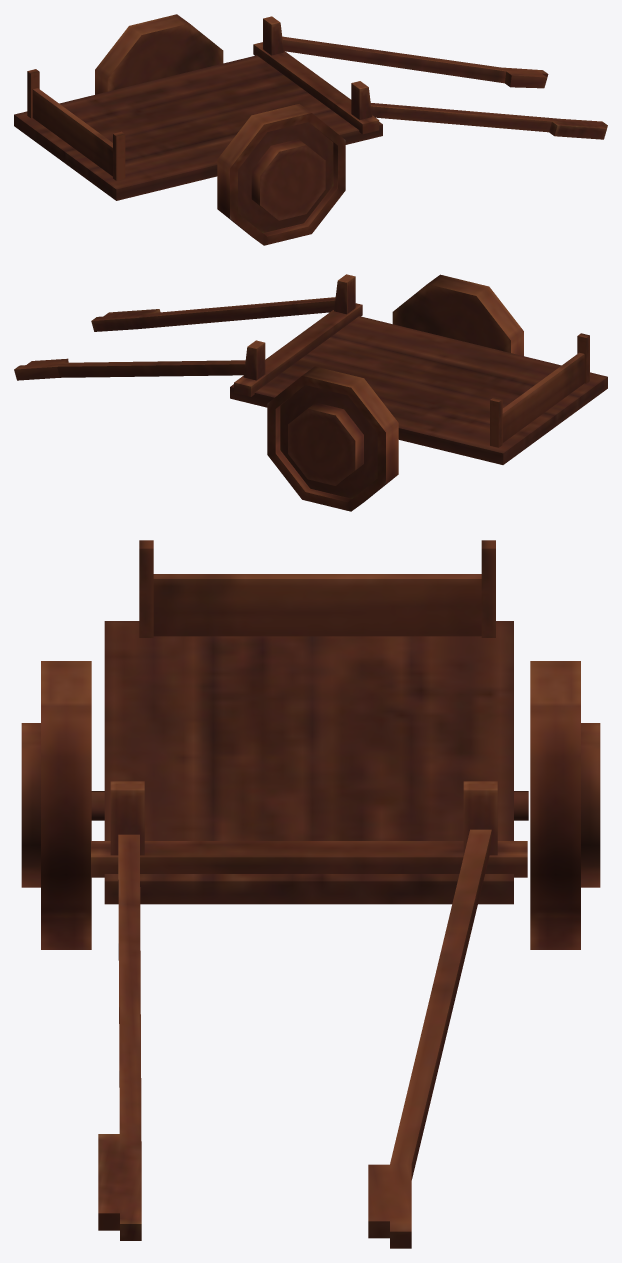
File: Stage_ZhuCheng_ShouTuiChe01.FBX
3 views of the same model, one above another, from view 1: azimuth 30°, elevation 25°; view 2: azimuth 150°, elevation 25°; view 3: azimuth 270°, elevation 25° (orthographic). The views are drawn at different scales.
Parts seen in each view (by area): view 1: Stage_ZhuCheng_ShouTuiChe01; view 2: Stage_ZhuCheng_ShouTuiChe01; view 3: Stage_ZhuCheng_ShouTuiChe01.
Boxes of the visible parts, x1,y1,x2,y2 form: Stage_ZhuCheng_ShouTuiChe01: [14, 14, 607, 245]; Stage_ZhuCheng_ShouTuiChe01: [14, 274, 607, 511]; Stage_ZhuCheng_ShouTuiChe01: [21, 540, 600, 1248].
Size of the model in its own units: 245 by 56.45 by 122.
